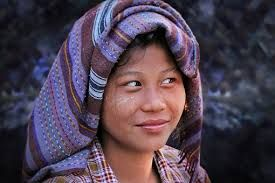no-mask: (89, 22, 196, 151)
